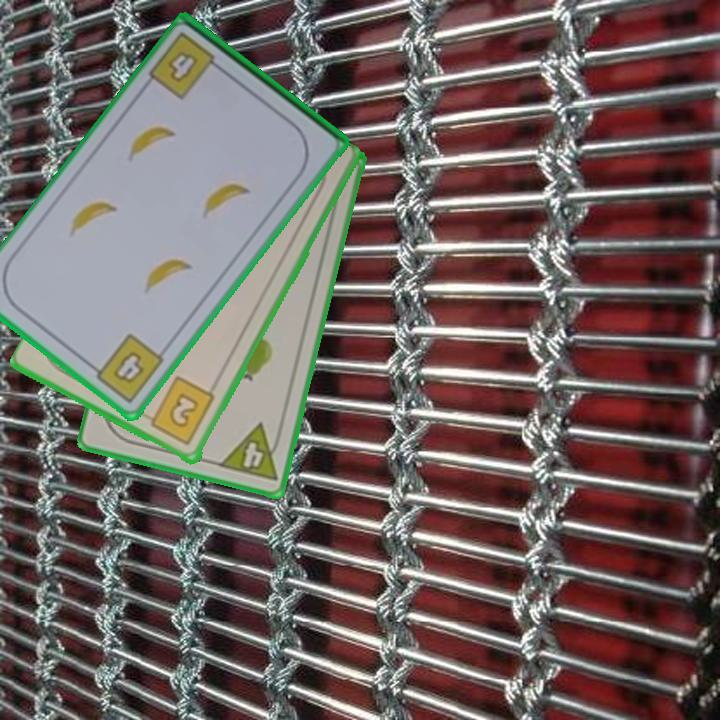2b: (141, 373, 218, 449)
4b: (86, 330, 168, 407), (145, 28, 228, 103)
4p: (215, 420, 286, 485)
